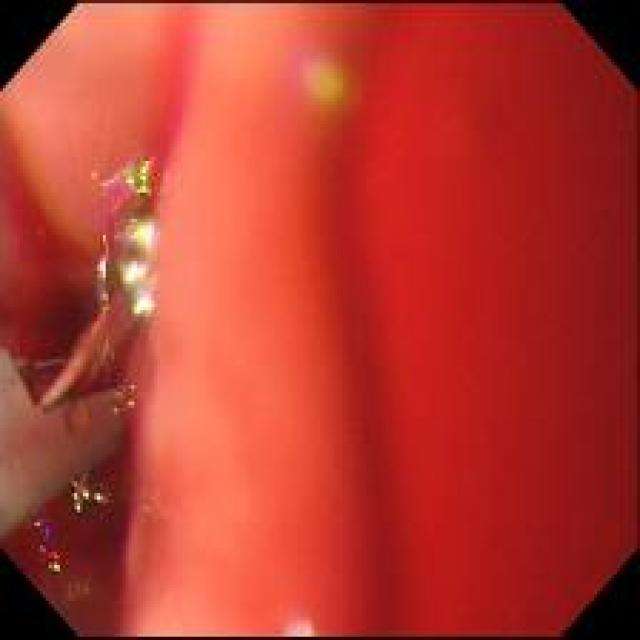color misalignment: (320, 7, 634, 636), (97, 155, 161, 258), (287, 45, 345, 105), (34, 520, 50, 540), (49, 552, 60, 570)
instrument: (1, 211, 158, 542)
specularity: (134, 298, 153, 314), (125, 267, 144, 282), (101, 259, 106, 278)
